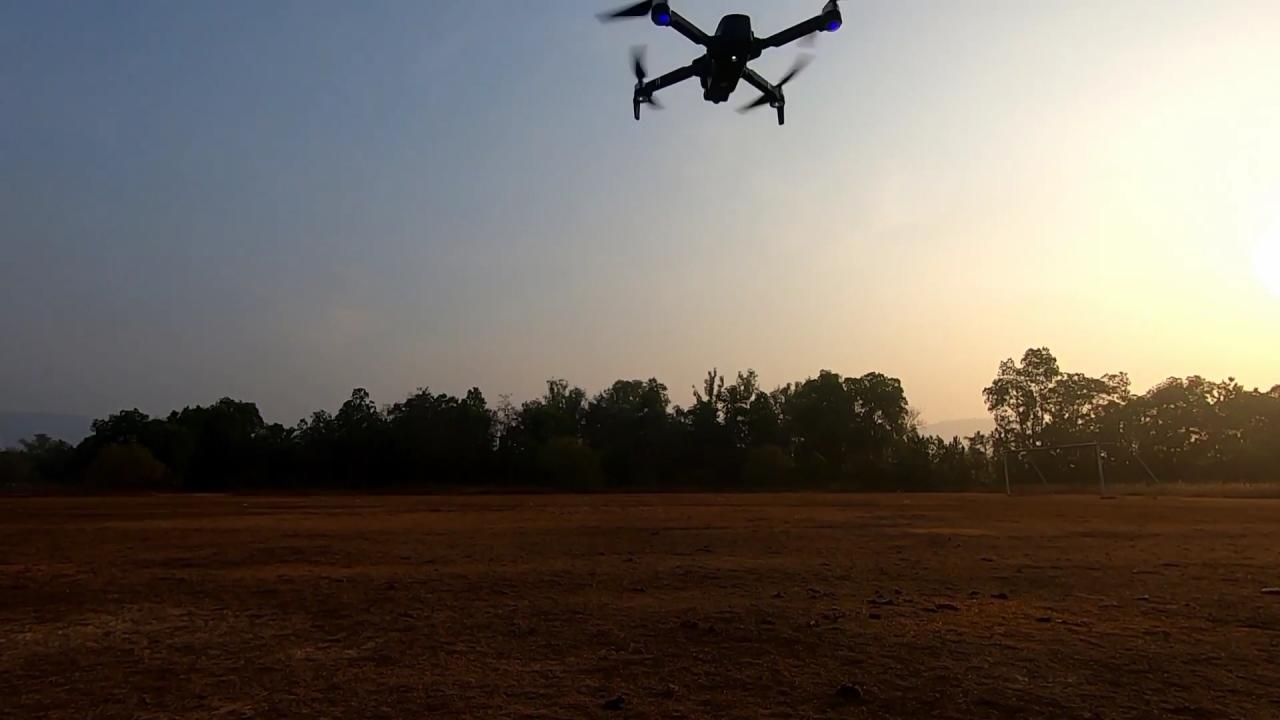Drone: (581, 0, 858, 135)
